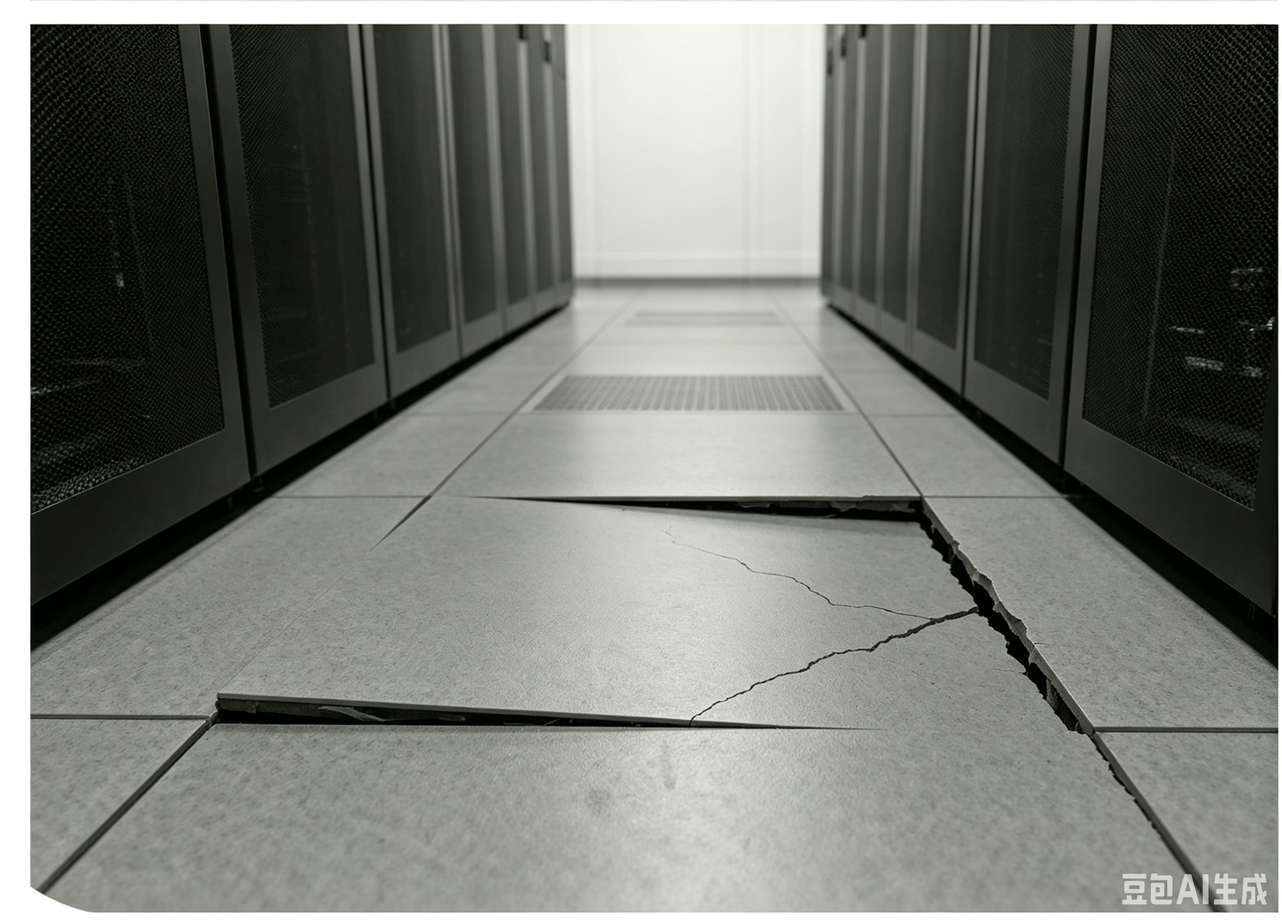floor_defect: (192, 627, 1149, 751), (513, 475, 1042, 635)
